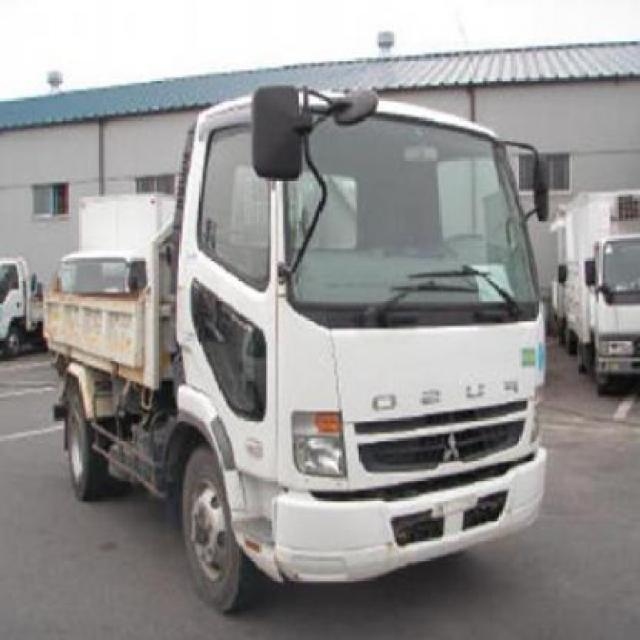truck: (47, 81, 553, 612)
